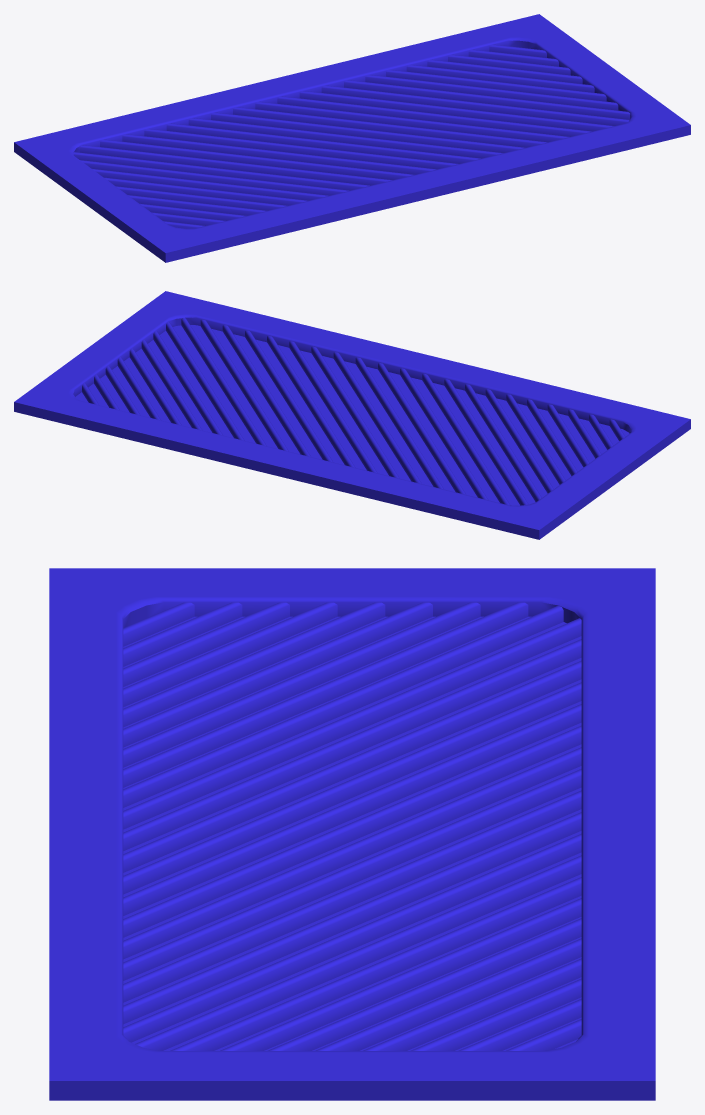
File: Detail04_Floor.fbx
3 renders of one model, top to bottom at view 1: azimuth 30°, elevation 25°; view 2: azimuth 150°, elevation 25°; view 3: azimuth 270°, elevation 25°, orthographic. The views are drawn at different scales.
Parts seen in each view (by area): view 1: SM_Detail04_Floor; view 2: SM_Detail04_Floor; view 3: SM_Detail04_Floor.
Part boxes in pixels (<box>): SM_Detail04_Floor: <box>14,14,690,262</box>; SM_Detail04_Floor: <box>14,291,690,539</box>; SM_Detail04_Floor: <box>49,568,655,1100</box>.
Bounding box in the file's own units: 100 × 1.77 × 50.
